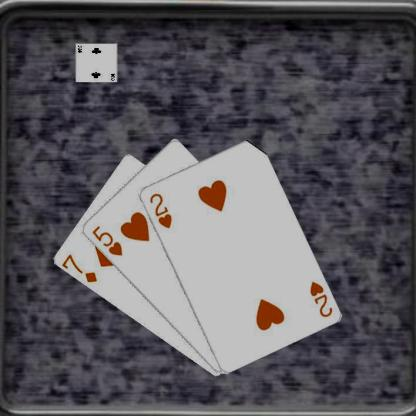2H: (146, 190, 173, 230), (307, 278, 333, 318)
5H: (89, 223, 123, 257)
7D: (60, 252, 98, 284)
